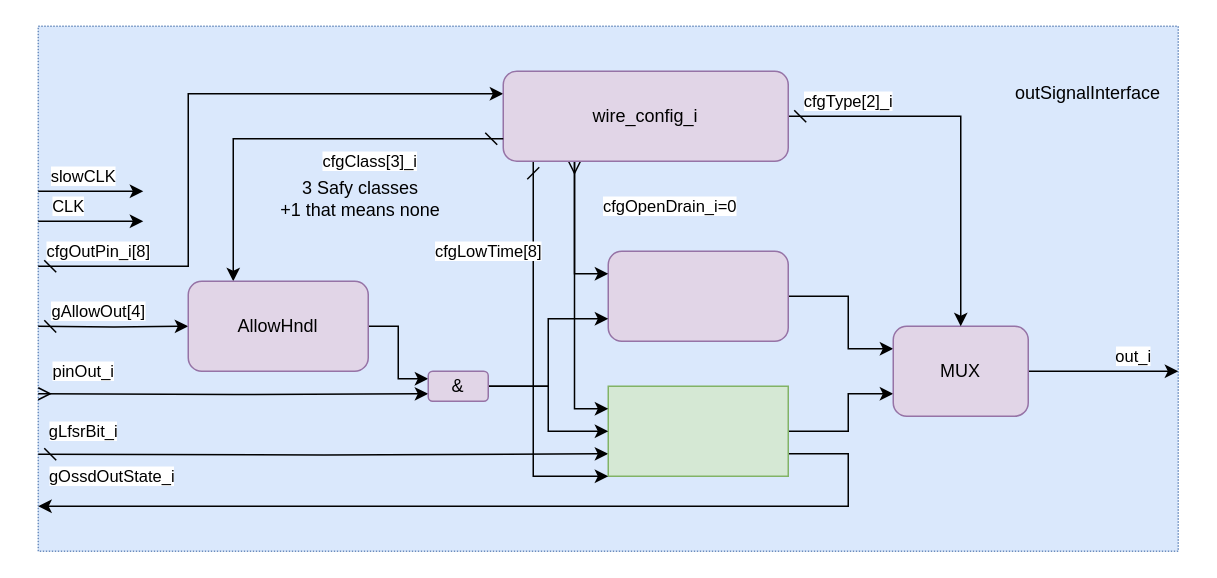
This 1217x578 diagram has some shape labels left out. Each missing label, with the centre of its shape:
outDefault: the point at 697,295
outOSSD: the point at 697,430
